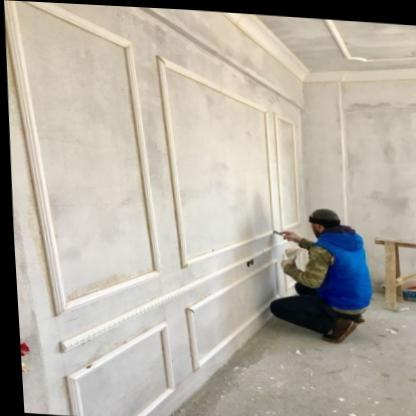Futec frame: (4, 0, 162, 324), (57, 248, 279, 416), (151, 46, 301, 273)
